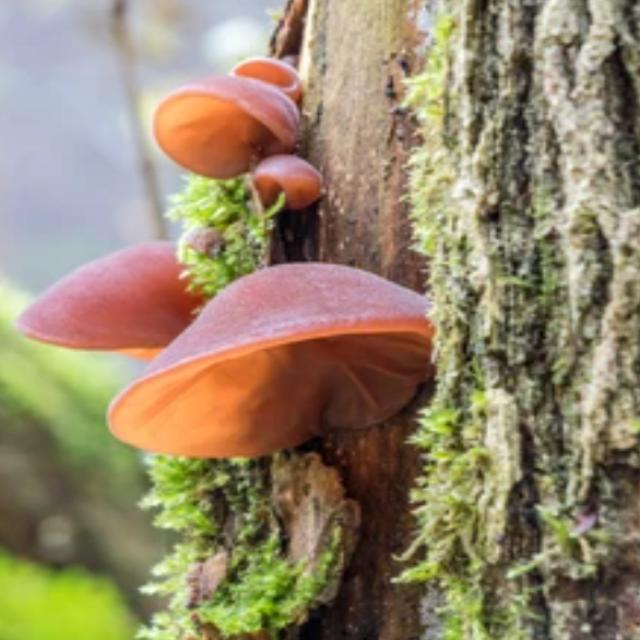Fase Muda: (112, 255, 430, 473), (154, 63, 337, 223), (6, 244, 208, 355)
